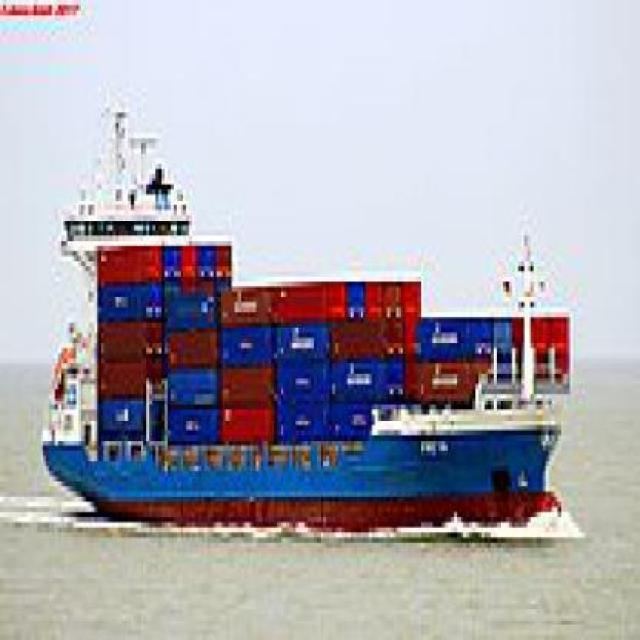container: (28, 78, 589, 564)
